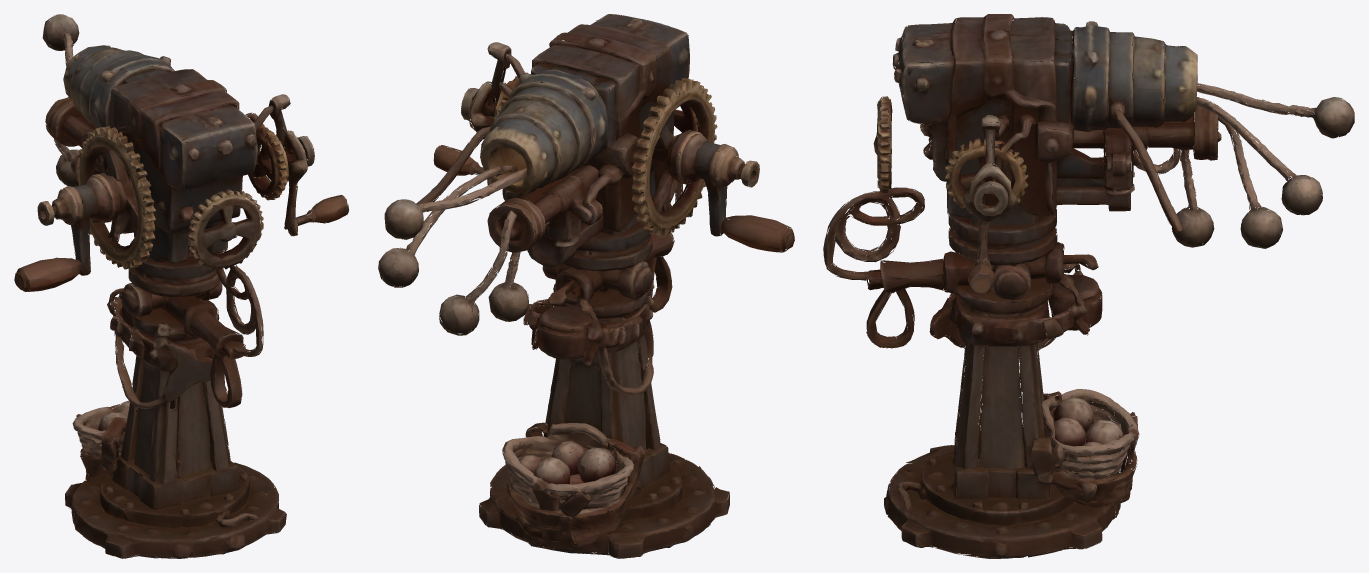
Rendered from bola_launcher.glb.
3 renders of one model, left to right at view 1: azimuth 30°, elevation 25°; view 2: azimuth 150°, elevation 25°; view 3: azimuth 270°, elevation 25°, orthographic. The views are drawn at different scales.
Parts seen in each view (by area): view 1: gun, base, head; view 2: gun, base, head; view 3: gun, base, head.
Part boxes in pixels (x1,y1,x2,y2): gun: (14, 14, 348, 343); base: (65, 292, 286, 558); head: (112, 281, 263, 358); gun: (378, 14, 794, 335); base: (479, 239, 729, 558); head: (532, 184, 682, 319); gun: (823, 14, 1354, 294); base: (866, 263, 1139, 558); head: (823, 243, 1098, 299).
Size of the model in its own units: 1.58 by 2 by 2.
1 material, 1 textured.
